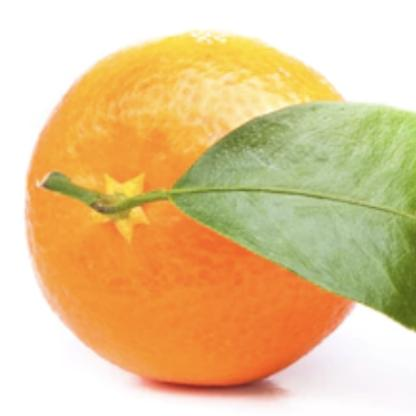fresh: (28, 32, 361, 390)
